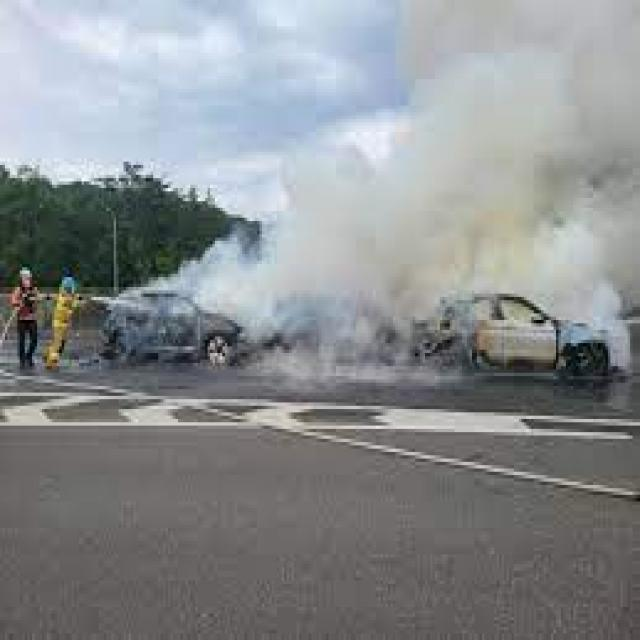smoke: (388, 3, 640, 370), (107, 152, 386, 369)
